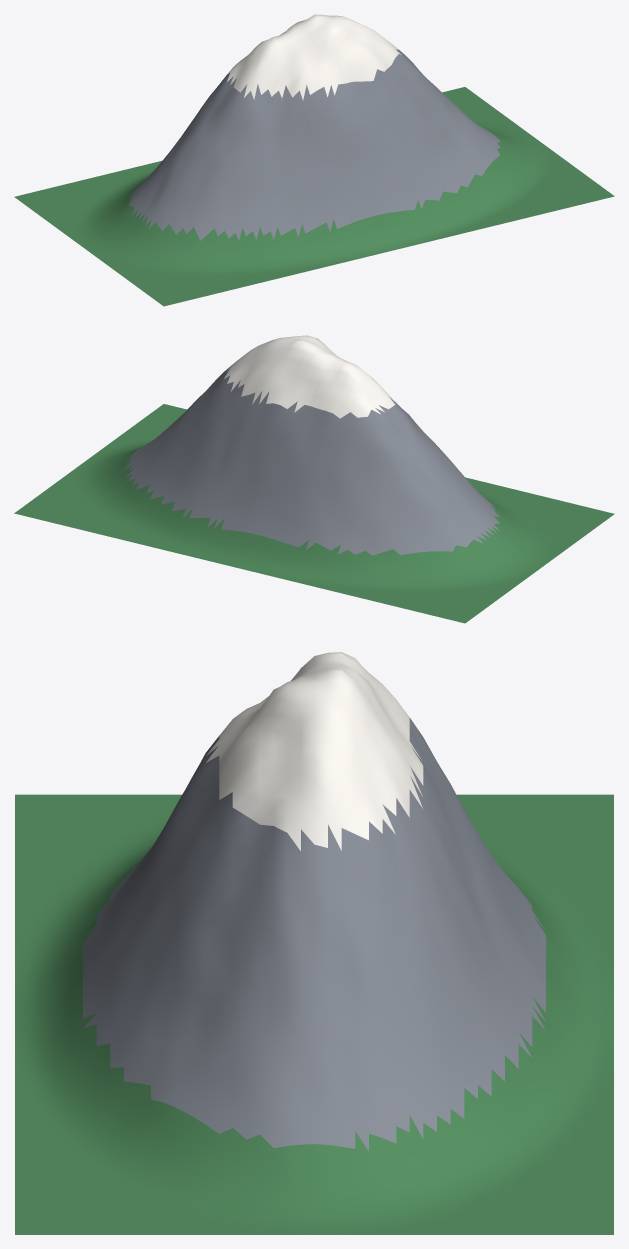
The model's file is town.glb.
3 views of the same model, one above another, from view 1: azimuth 30°, elevation 25°; view 2: azimuth 150°, elevation 25°; view 3: azimuth 270°, elevation 25° (orthographic). The views are drawn at different scales.
Parts seen in each view (by area): view 1: mountain; view 2: mountain; view 3: mountain.
Part boxes in pixels (x1=…): mountain: x1=14, y1=14, x2=614, y2=306; mountain: x1=14, y1=335, x2=614, y2=623; mountain: x1=15, y1=652, x2=613, y2=1234.
Size of the model in its own units: 80 by 29.73 by 46.
